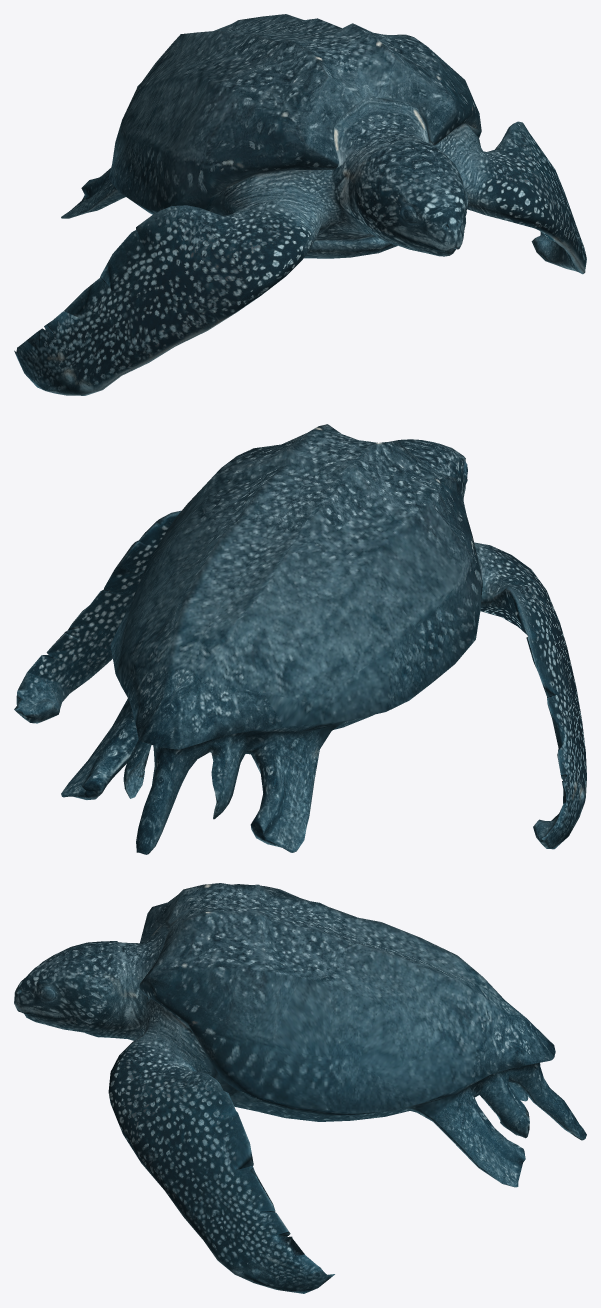
File: tartaruga_de_couro_nova.glb
3 renders of one model, top to bottom at view 1: azimuth 30°, elevation 25°; view 2: azimuth 150°, elevation 25°; view 3: azimuth 270°, elevation 25°, orthographic. The views are drawn at different scales.
Bounding box in the file's own units: 0.938 × 0.5215 × 0.9556.
Materials: 1 (1 with a texture image).
